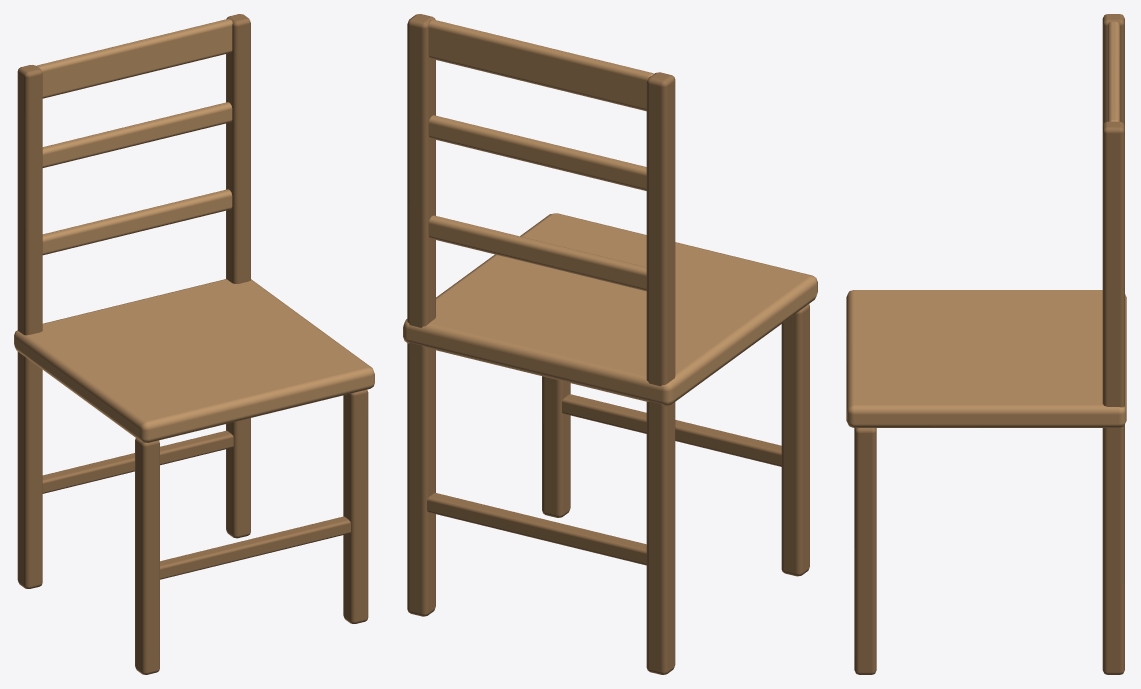
Rendered from dining_chair.glb.
3 renders of one model, left to right at view 1: azimuth 30°, elevation 25°; view 2: azimuth 150°, elevation 25°; view 3: azimuth 270°, elevation 25°, orthographic. The views are drawn at different scales.
Visible parts, largest first — view 1: Cube, Cube.002, Cube.004, Cube.009, Cube.003, Cube.001, Cube.007, Cube.008, Cube.005, Cube.006; view 2: Cube, Cube.002, Cube.004, Cube.009, Cube.001, Cube.007, Cube.008, Cube.006, Cube.005, Cube.003; view 3: Cube, Cube.004, Cube.003, Cube.009, Cube.002.
Part boxes in pixels (bbox=[...]): Cube: bbox=[14, 279, 374, 442]; Cube.002: bbox=[17, 65, 42, 588]; Cube.004: bbox=[226, 14, 250, 538]; Cube.009: bbox=[36, 19, 232, 98]; Cube.003: bbox=[343, 389, 368, 623]; Cube.001: bbox=[135, 438, 159, 674]; Cube.007: bbox=[42, 189, 232, 255]; Cube.008: bbox=[42, 102, 232, 167]; Cube.005: bbox=[160, 516, 350, 579]; Cube.006: bbox=[42, 430, 233, 493]; Cube: bbox=[403, 213, 817, 405]; Cube.002: bbox=[646, 72, 675, 674]; Cube.004: bbox=[407, 14, 435, 616]; Cube.009: bbox=[428, 20, 653, 111]; Cube.001: bbox=[781, 304, 809, 576]; Cube.007: bbox=[428, 215, 646, 291]; Cube.008: bbox=[428, 115, 646, 190]; Cube.006: bbox=[427, 493, 646, 565]; Cube.005: bbox=[562, 394, 781, 466]; Cube.003: bbox=[542, 376, 570, 517]; Cube: bbox=[846, 290, 1126, 427]; Cube.004: bbox=[1102, 121, 1124, 674]; Cube.003: bbox=[854, 428, 876, 674]; Cube.009: bbox=[1107, 21, 1119, 121]; Cube.002: bbox=[1102, 14, 1124, 125].
Size of the model in its own units: 0.45 by 0.95 by 0.44.
